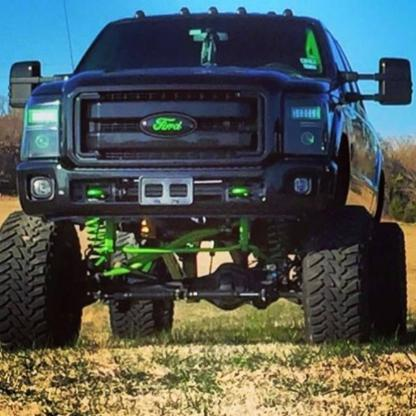Car: (0, 6, 415, 352)
Truck: (0, 7, 413, 345)
